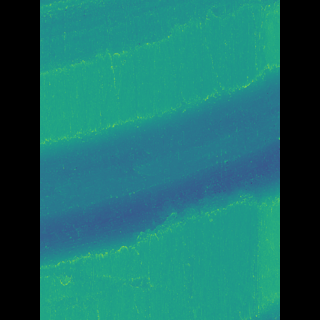Loch: (70, 58, 249, 271), (70, 0, 222, 75)
